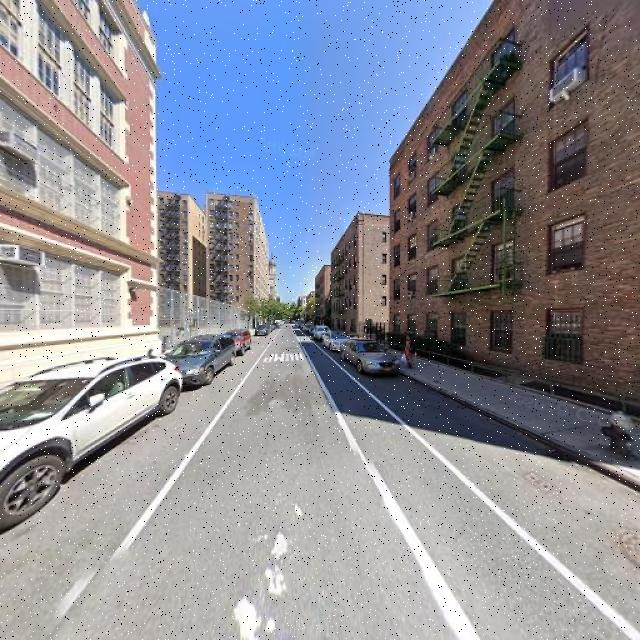Building: (390, 1, 640, 422), (1, 1, 158, 395), (330, 214, 357, 340), (317, 270, 324, 329)
